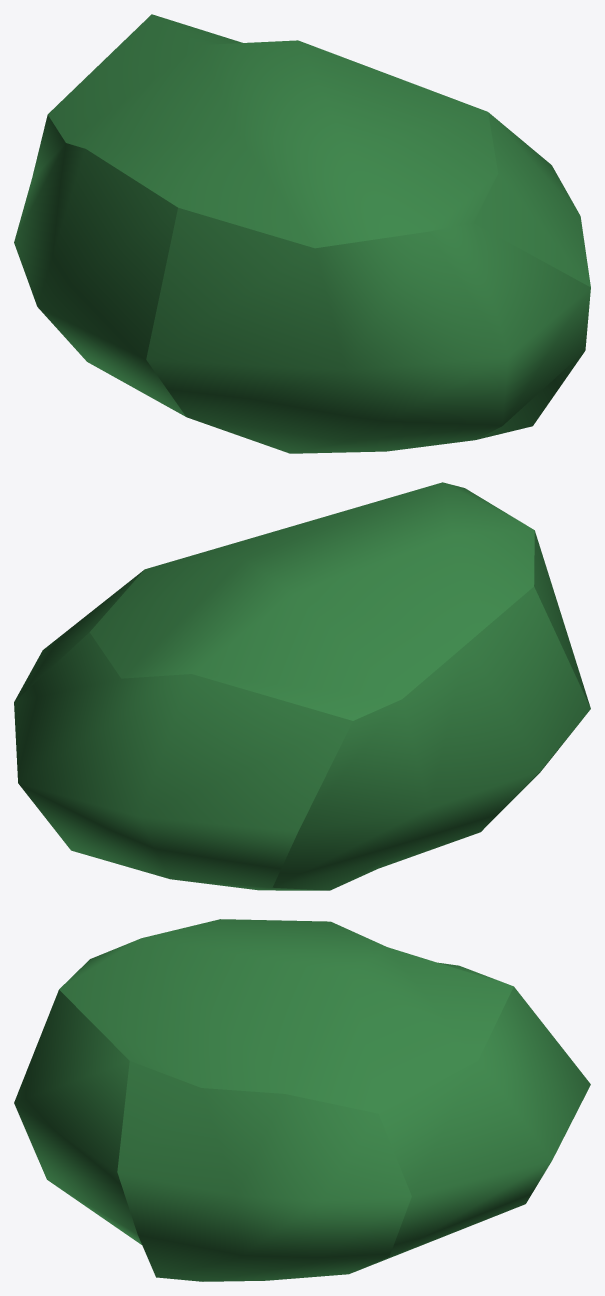
The model's file is Buisson_02.fbx.
The picture shows the model from 3 angles, top to bottom: view 1: azimuth 30°, elevation 25°; view 2: azimuth 150°, elevation 25°; view 3: azimuth 270°, elevation 25°; orthographic projection. The views are drawn at different scales.
Visible parts, largest first — view 1: buisson1; view 2: buisson1; view 3: buisson1.
Part boxes in pixels (<box>): buisson1: <box>14,14,590,453</box>; buisson1: <box>14,482,590,890</box>; buisson1: <box>14,919,590,1281</box>.
Bounding box in the file's own units: 27.76 × 16.72 × 33.12.
